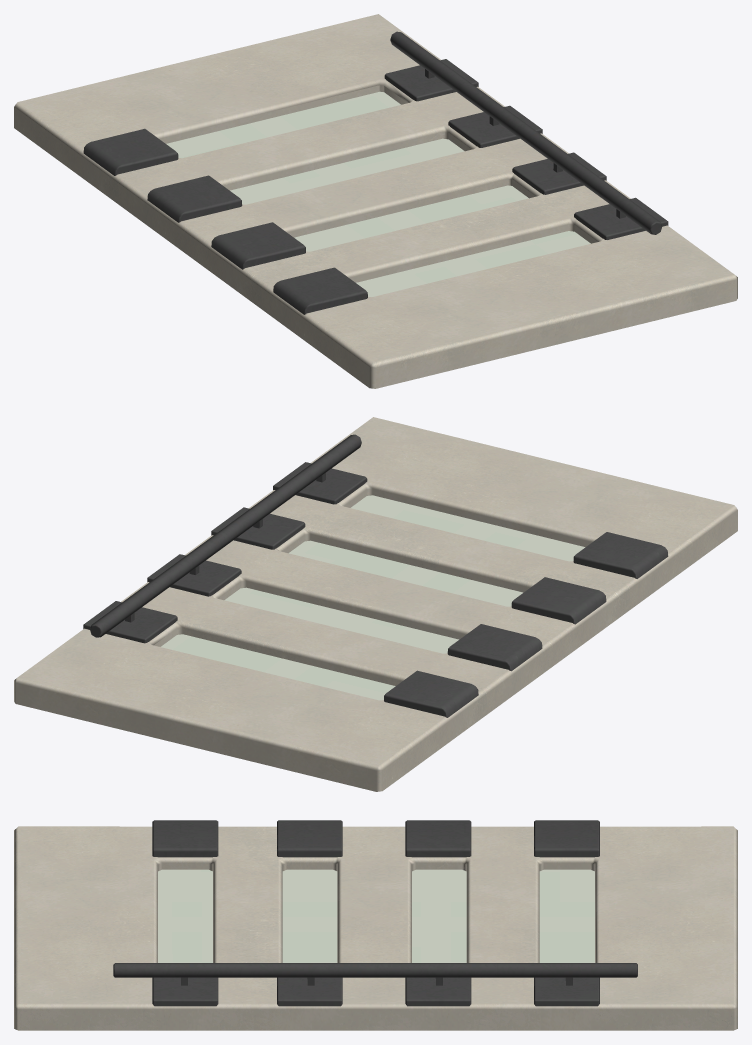
File: nt_2020_door_raid_white_LOD0.obj
3 renders of one model, top to bottom at view 1: azimuth 30°, elevation 25°; view 2: azimuth 150°, elevation 25°; view 3: azimuth 270°, elevation 25°, orthographic.
Visible parts, largest first — view 1: plaster_wall_whitepaint03, metal_chrome_boat, ap_glass_sanded_opaque; view 2: plaster_wall_whitepaint03, metal_chrome_boat, ap_glass_sanded_opaque; view 3: plaster_wall_whitepaint03, metal_chrome_boat, ap_glass_sanded_opaque.
Boxes of the visible parts, x1=… form: plaster_wall_whitepaint03: x1=14, y1=14, x2=737, y2=388; metal_chrome_boat: x1=83, y1=31, x2=668, y2=314; ap_glass_sanded_opaque: x1=166, y1=91, x2=590, y2=296; plaster_wall_whitepaint03: x1=14, y1=417, x2=737, y2=791; metal_chrome_boat: x1=83, y1=434, x2=668, y2=717; ap_glass_sanded_opaque: x1=161, y1=495, x2=585, y2=700; plaster_wall_whitepaint03: x1=14, y1=826, x2=737, y2=1030; metal_chrome_boat: x1=113, y1=820, x2=637, y2=1006; ap_glass_sanded_opaque: x1=158, y1=869, x2=594, y2=962.
Bounding box in the file's own units: 153 × 25.79 × 259.
